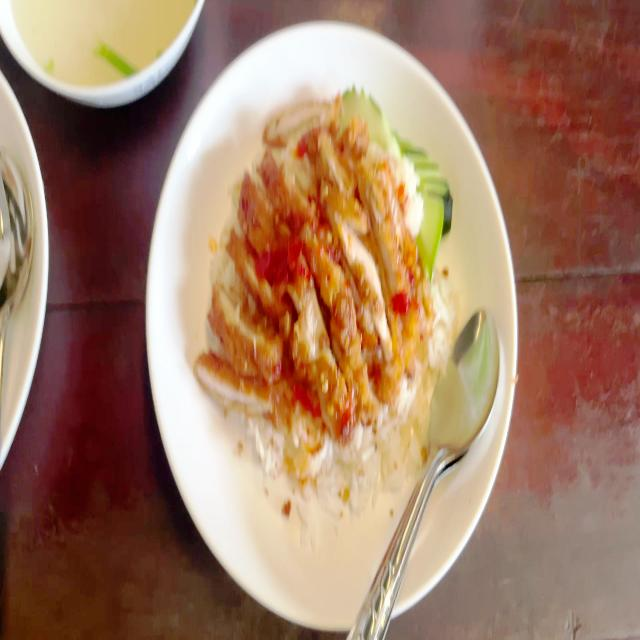chicken_rice: (194, 84, 458, 536)
cucumber: (388, 125, 457, 287), (338, 81, 406, 170)
fried_chicken: (194, 103, 438, 448)
